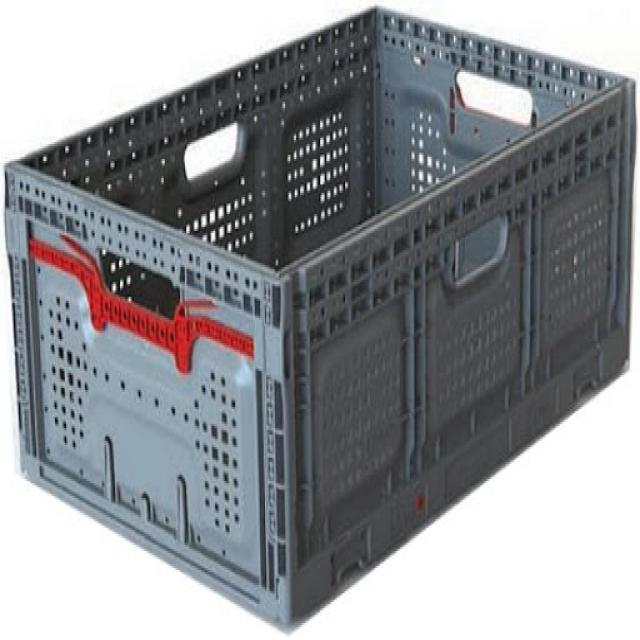basket: (0, 2, 638, 630)
